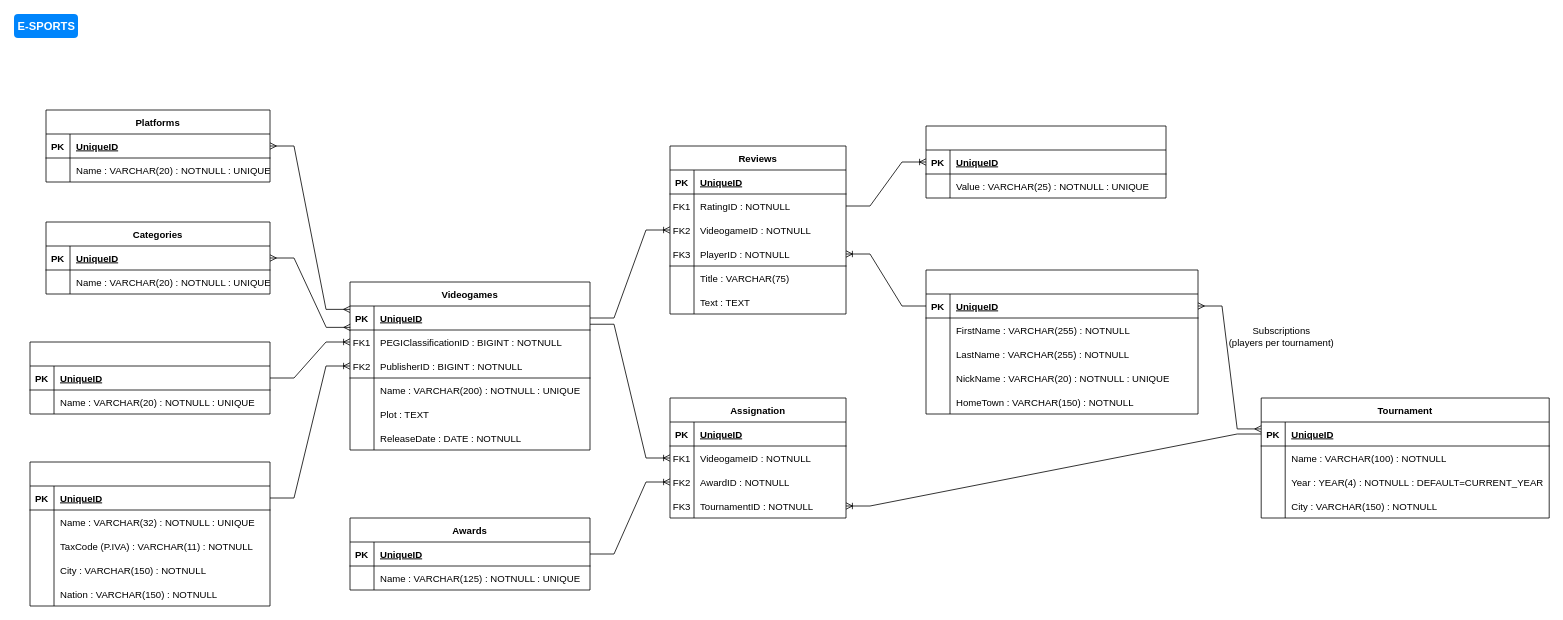
The diagram is 1563 pixels wide and 620 high, and some of its shapes have lost their labels. The shapes that lost their labels are listed below. From the top down, each one's box as (x1, y1, x2, y2) in pixels, then its label:
(925, 125, 1166, 198): Ratings
(925, 269, 1198, 414): Players
(29, 341, 270, 414): PEGIClassifications
(29, 461, 270, 606): Publishers
